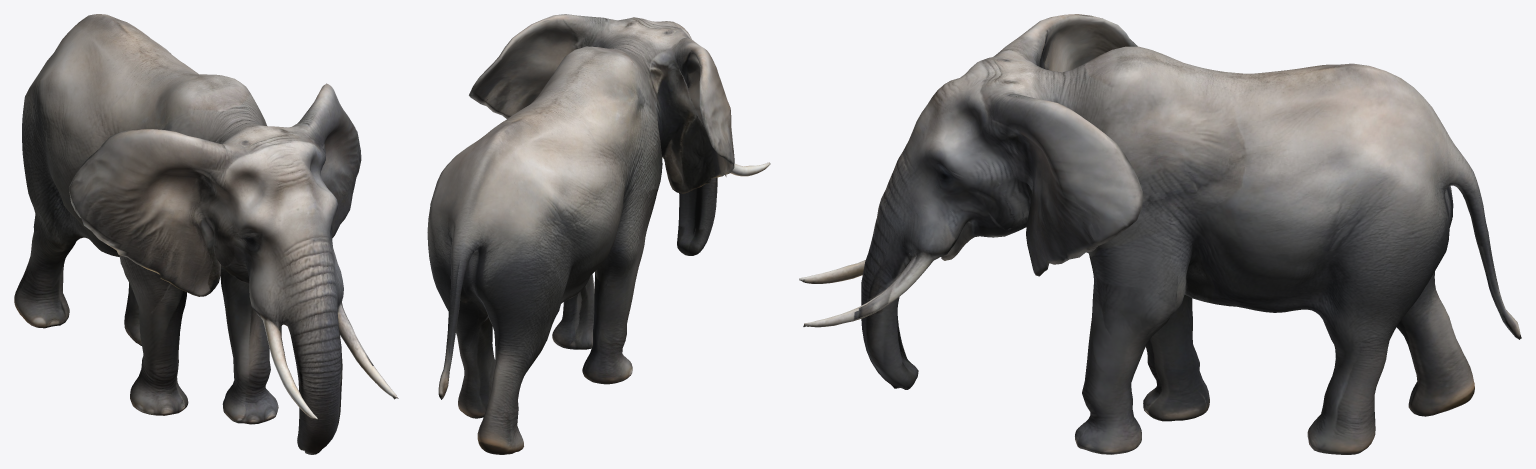
File: Elephant.glb
The picture shows the model from 3 angles, left to right: view 1: azimuth 30°, elevation 25°; view 2: azimuth 150°, elevation 25°; view 3: azimuth 270°, elevation 25°; orthographic projection. The views are drawn at different scales.
Size of the model in its own units: 1.01 by 1.14 by 2.
Materials: 1 (1 with a texture image).
